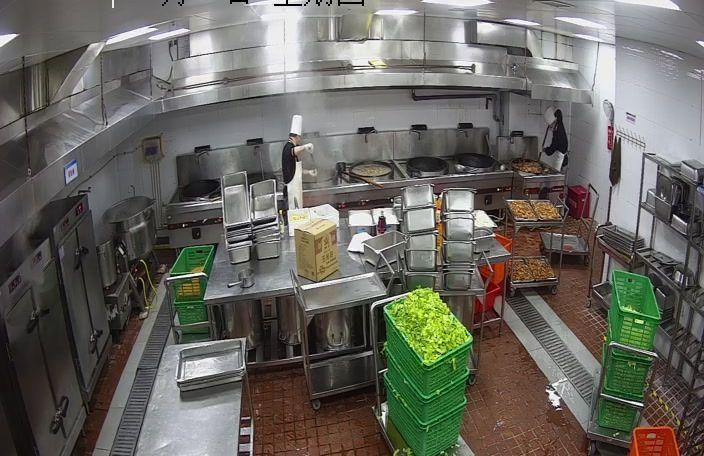apron: (297, 143, 314, 155), (307, 168, 317, 177)
